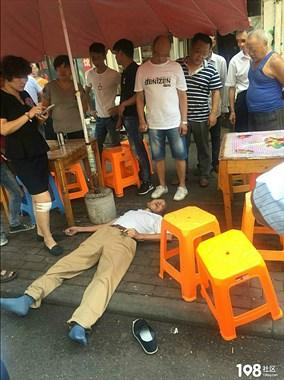10+: (1, 26, 284, 342)
down: (1, 192, 171, 347)
